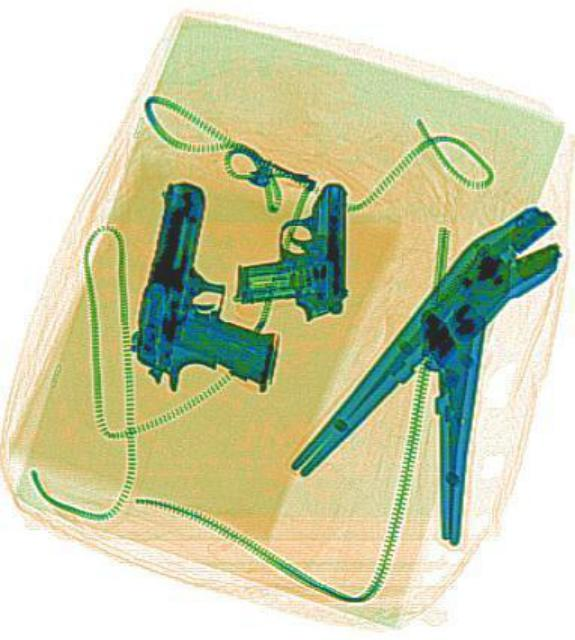Gun: (118, 174, 309, 412), (232, 178, 345, 318)
